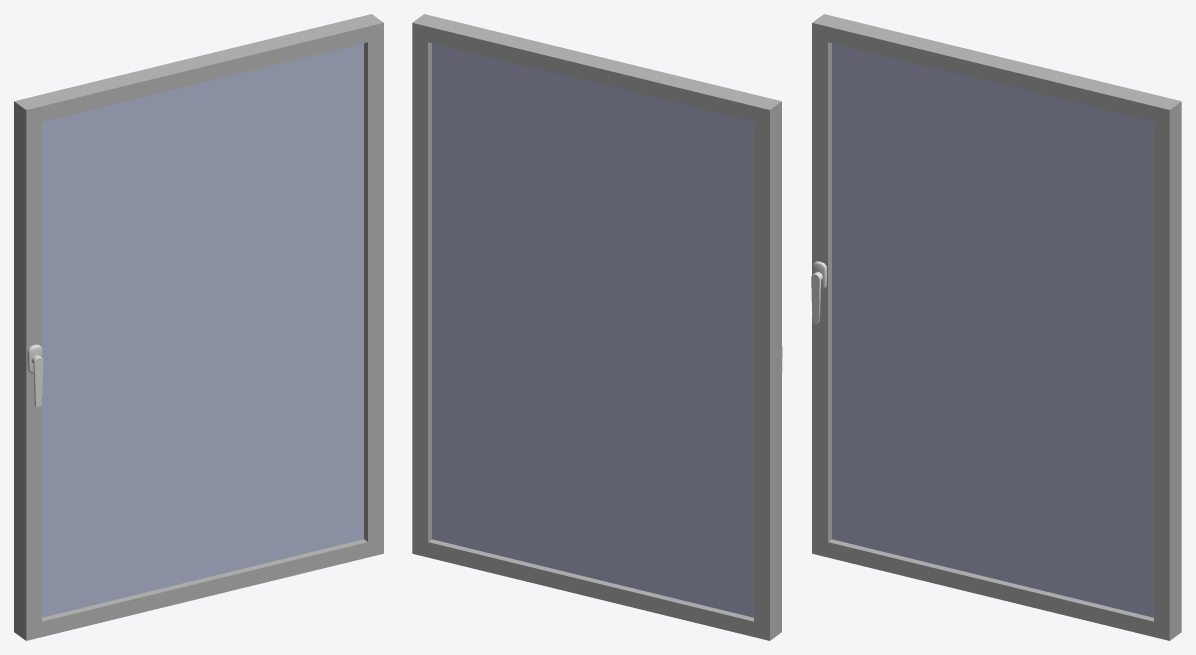
The model's file is Window_02_A_SM.FBX.
The picture shows the model from 3 angles, left to right: view 1: azimuth 30°, elevation 25°; view 2: azimuth 150°, elevation 25°; view 3: azimuth 330°, elevation 25°; orthographic projection.
Parts seen in each view (by area): view 1: Window_02_A_SM; view 2: Window_02_A_SM; view 3: Window_02_A_SM.
Boxes of the visible parts, left/top/right/bottom form: Window_02_A_SM: left=14, top=14, right=383, bottom=640; Window_02_A_SM: left=412, top=14, right=782, bottom=640; Window_02_A_SM: left=811, top=14, right=1181, bottom=640.
Size of the model in its own units: 128 by 10.43 by 182.
